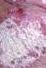plaque psoriasis: (0, 8, 46, 68), (0, 0, 46, 32)
